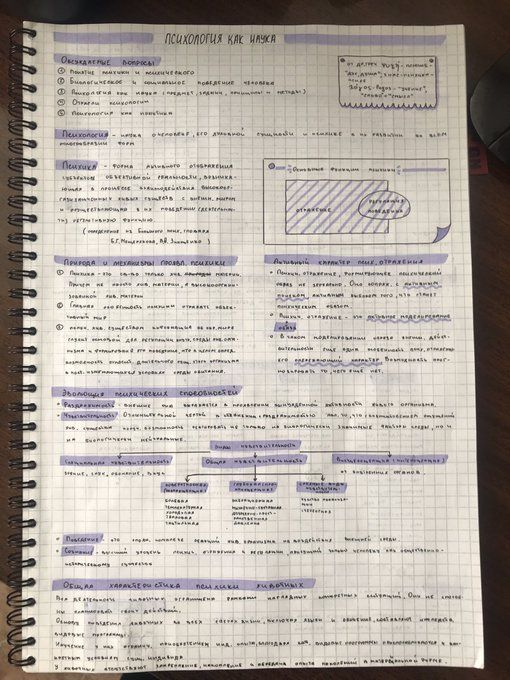page: (41, 26, 465, 664)
